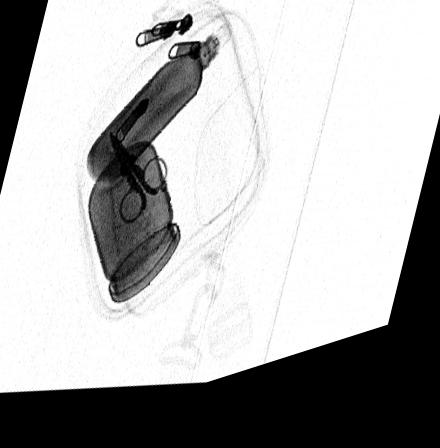Scissors: (107, 138, 170, 232)
